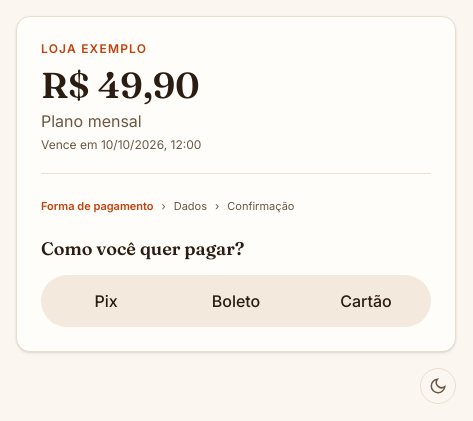
Test: PayPage › aClosedOrderDuringAPixAttemptIsUnavailable
Click the button "Pix" at (106, 300), box [45,278,167,322]
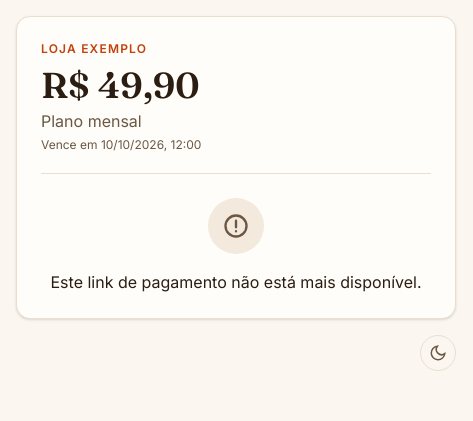
expect the text "Este link de pagamento não está mais disponível." is shown: met, box [41,270,431,294]
